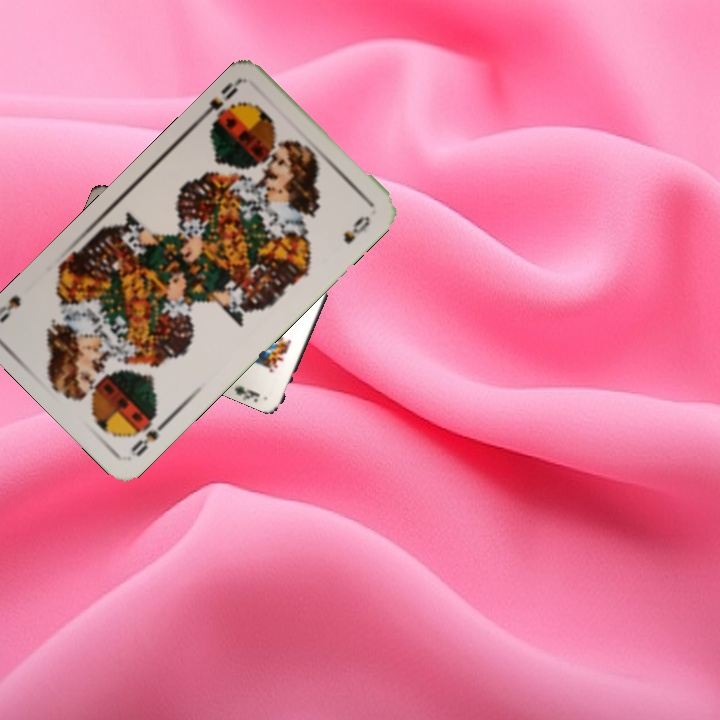SO: (197, 74, 247, 129), (127, 413, 172, 459)
